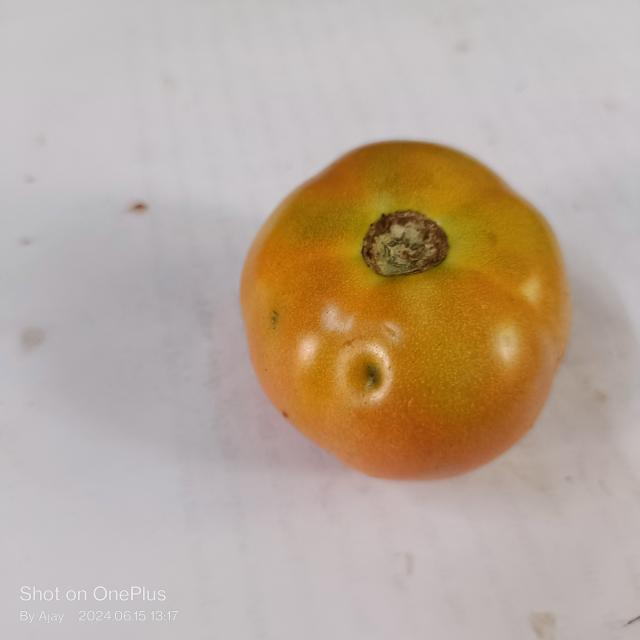Bacterial_Spot: (355, 360, 390, 393)
